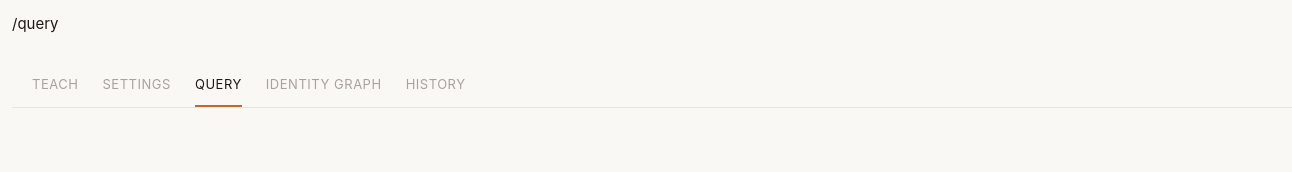
Test case: TabBar › marks the active route when authenticated
Click the link "Identity Graph": {"x": 324, "y": 84} [266,76,382,92]
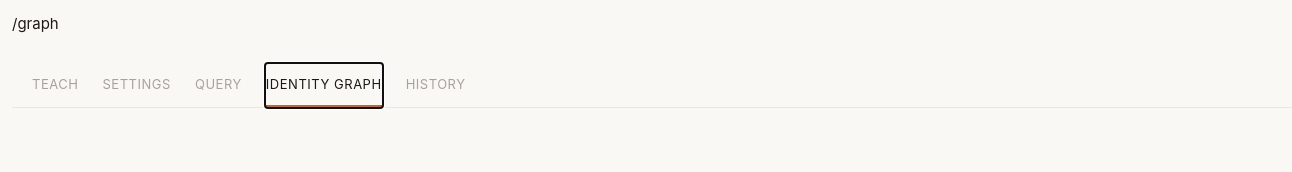
expect the text "/graph" is shown: met, box [12,14,59,33]
